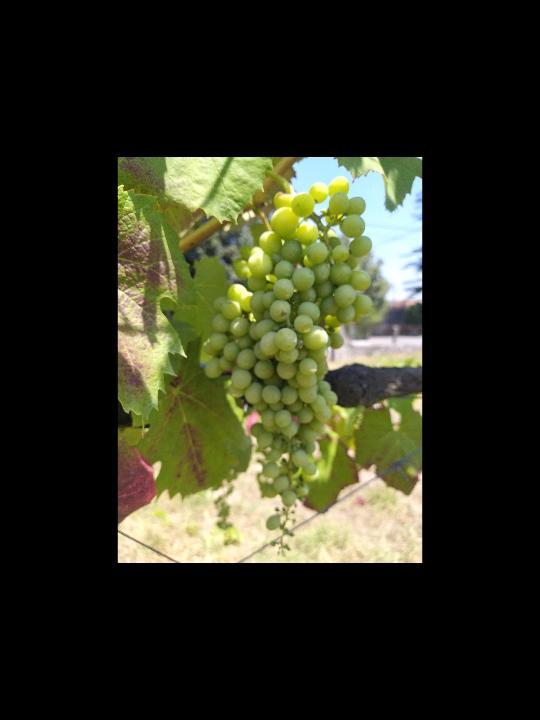grape: (202, 176, 374, 557)
